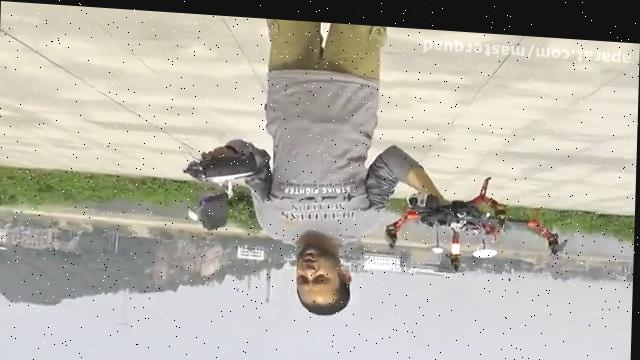drone: (377, 160, 574, 275)
